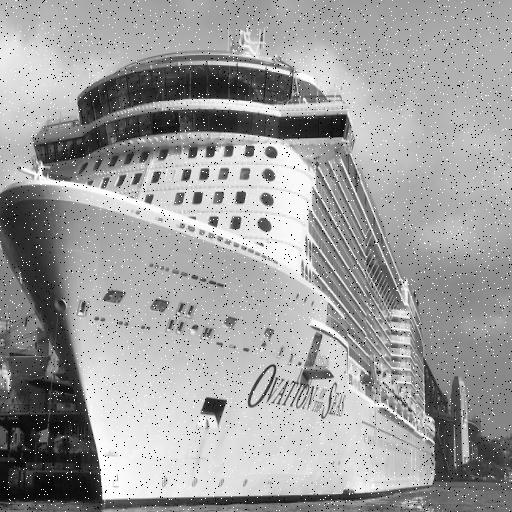cruises: (1, 10, 453, 512)
